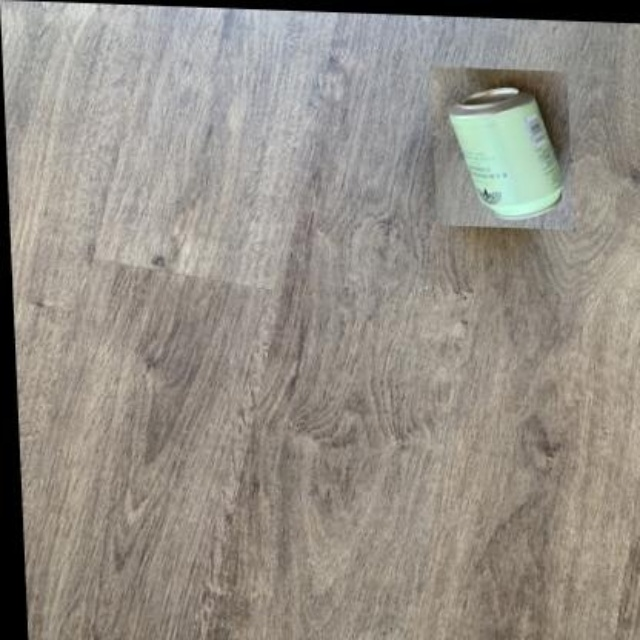trash: (449, 88, 562, 217)
